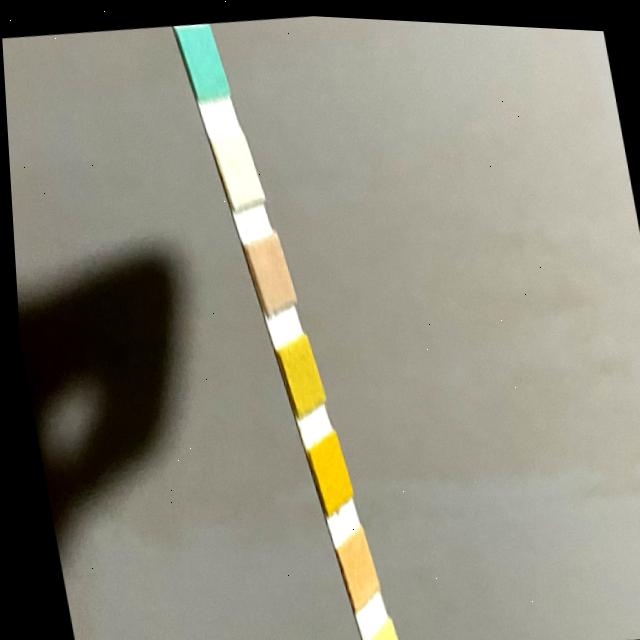Bilirubin: (217, 133, 255, 197)
Blood: (310, 438, 343, 498)
Glucose: (184, 22, 219, 93)
Ketone: (249, 235, 286, 299)
Protein: (364, 636, 393, 640)
SpGravity: (281, 340, 316, 399)
pH: (336, 541, 369, 589)
